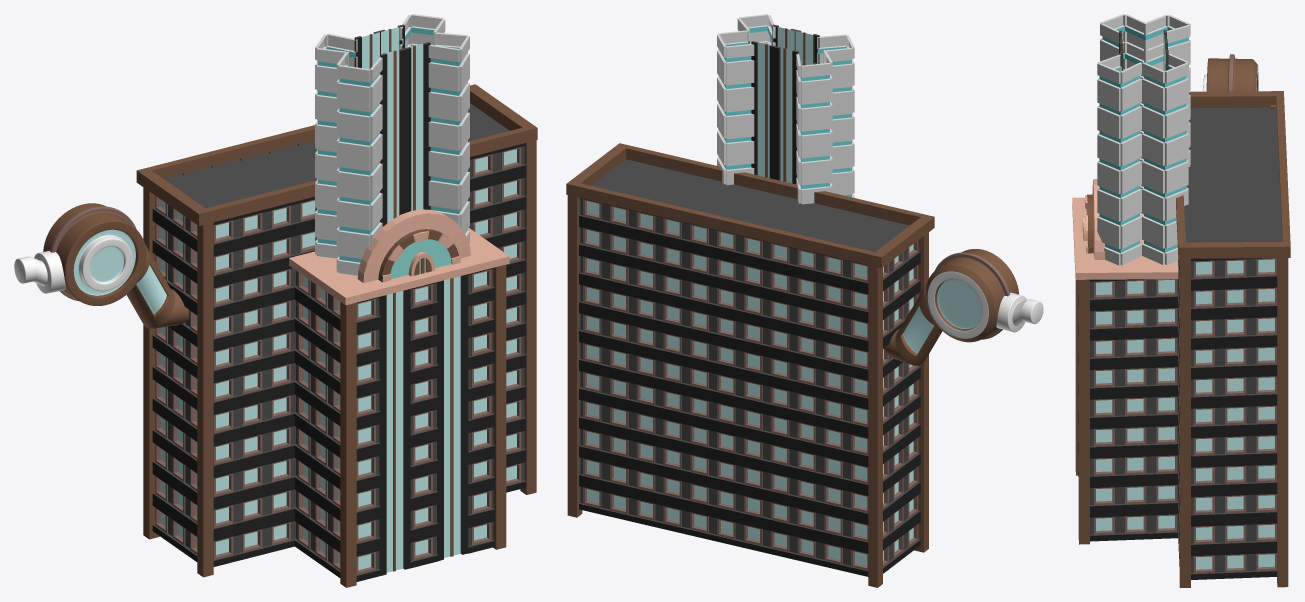
The model's file is Gedung 5.fbx.
3 renders of one model, left to right at view 1: azimuth 30°, elevation 25°; view 2: azimuth 150°, elevation 25°; view 3: azimuth 270°, elevation 25°, orthographic. The views are drawn at different scales.
Visible parts, largest first — view 1: Plane.011; view 2: Plane.011; view 3: Plane.011.
Part boxes in pixels (box(x1,y1,x2,y2)): Plane.011: box(14, 14, 537, 587); Plane.011: box(566, 14, 1043, 587); Plane.011: box(1072, 14, 1290, 587).
Bounding box in the file's own units: 246 × 243 × 102.
